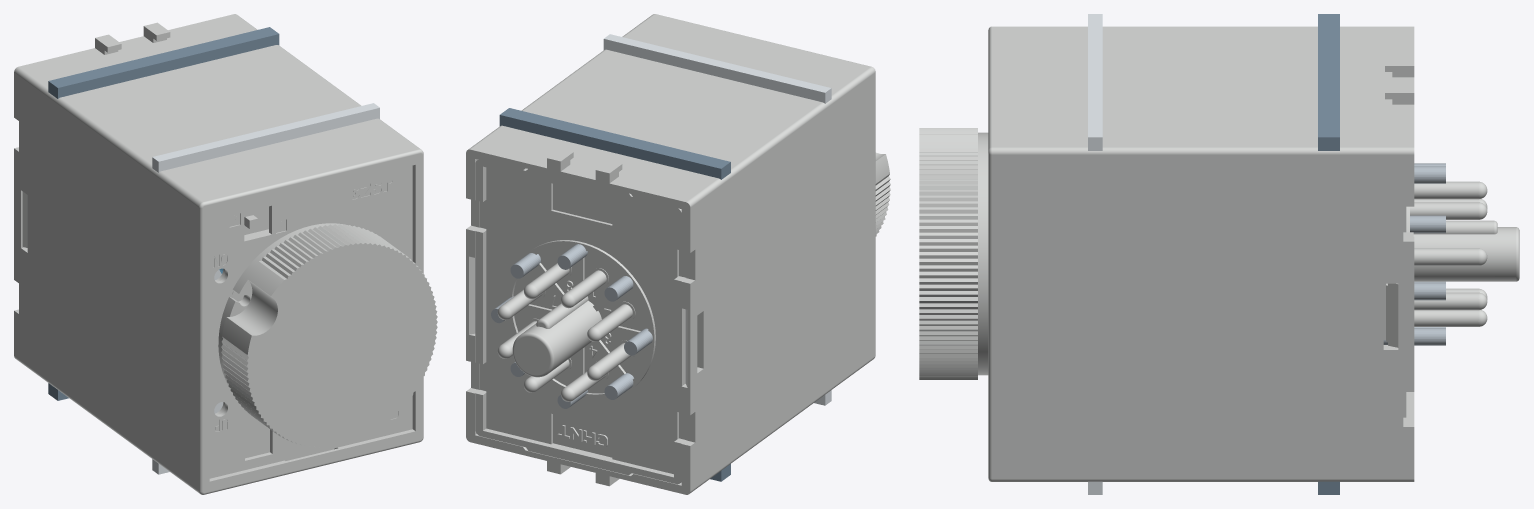
3 views of the same model, side by side, from view 1: azimuth 30°, elevation 25°; view 2: azimuth 150°, elevation 25°; view 3: azimuth 270°, elevation 25° (orthographic). The views are drawn at different scales.
Visible parts, largest first — view 1: factory_005, factory_016, factory_004, housing_000, housing_001, factory_001; view 2: factory_005, factory_011, housing_000, housing_001, factory_016, factory_015, factory_012, factory_007, factory_013, factory_014, factory_009, factory_010 (+5 smaller); view 3: factory_005, factory_016, factory_011, housing_000, housing_001, factory_009, factory_012, factory_010, factory_007, factory_008, pins_030.
Boxes of the visible parts, box(x1,y1,x2,y2) form: factory_005: box(14, 14, 423, 494); factory_016: box(218, 223, 437, 447); factory_004: box(209, 165, 412, 478); housing_000: box(48, 27, 279, 400); housing_001: box(152, 103, 379, 474); factory_001: box(244, 206, 268, 234); factory_005: box(466, 14, 875, 494); factory_011: box(475, 159, 686, 484); housing_000: box(499, 108, 730, 481); housing_001: box(603, 34, 831, 405); factory_016: box(875, 152, 890, 236); factory_015: box(587, 301, 635, 341); factory_012: box(561, 268, 608, 308); factory_007: box(524, 260, 571, 298); factory_013: box(587, 340, 634, 380); factory_014: box(561, 361, 608, 401); factory_009: box(497, 280, 545, 320); factory_010: box(524, 358, 571, 392); factory_005: box(988, 26, 1414, 481); factory_016: box(919, 128, 988, 379); factory_011: box(1383, 206, 1519, 421); housing_000: box(1318, 14, 1339, 494); housing_001: box(1088, 14, 1102, 494); factory_009: box(1414, 248, 1487, 265); factory_012: box(1414, 181, 1487, 199); factory_010: box(1414, 310, 1487, 326); factory_007: box(1410, 202, 1487, 219); factory_008: box(1414, 292, 1487, 310); pins_030: box(1410, 215, 1445, 233).
Bounding box in the file's own units: 0.0405 × 0.054 × 0.0822.
